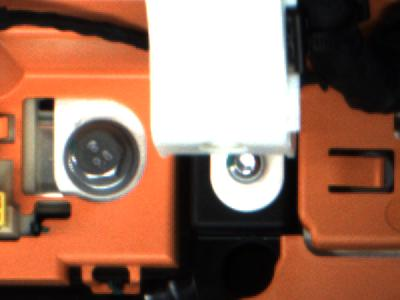nut_b: (60, 119, 145, 193)
